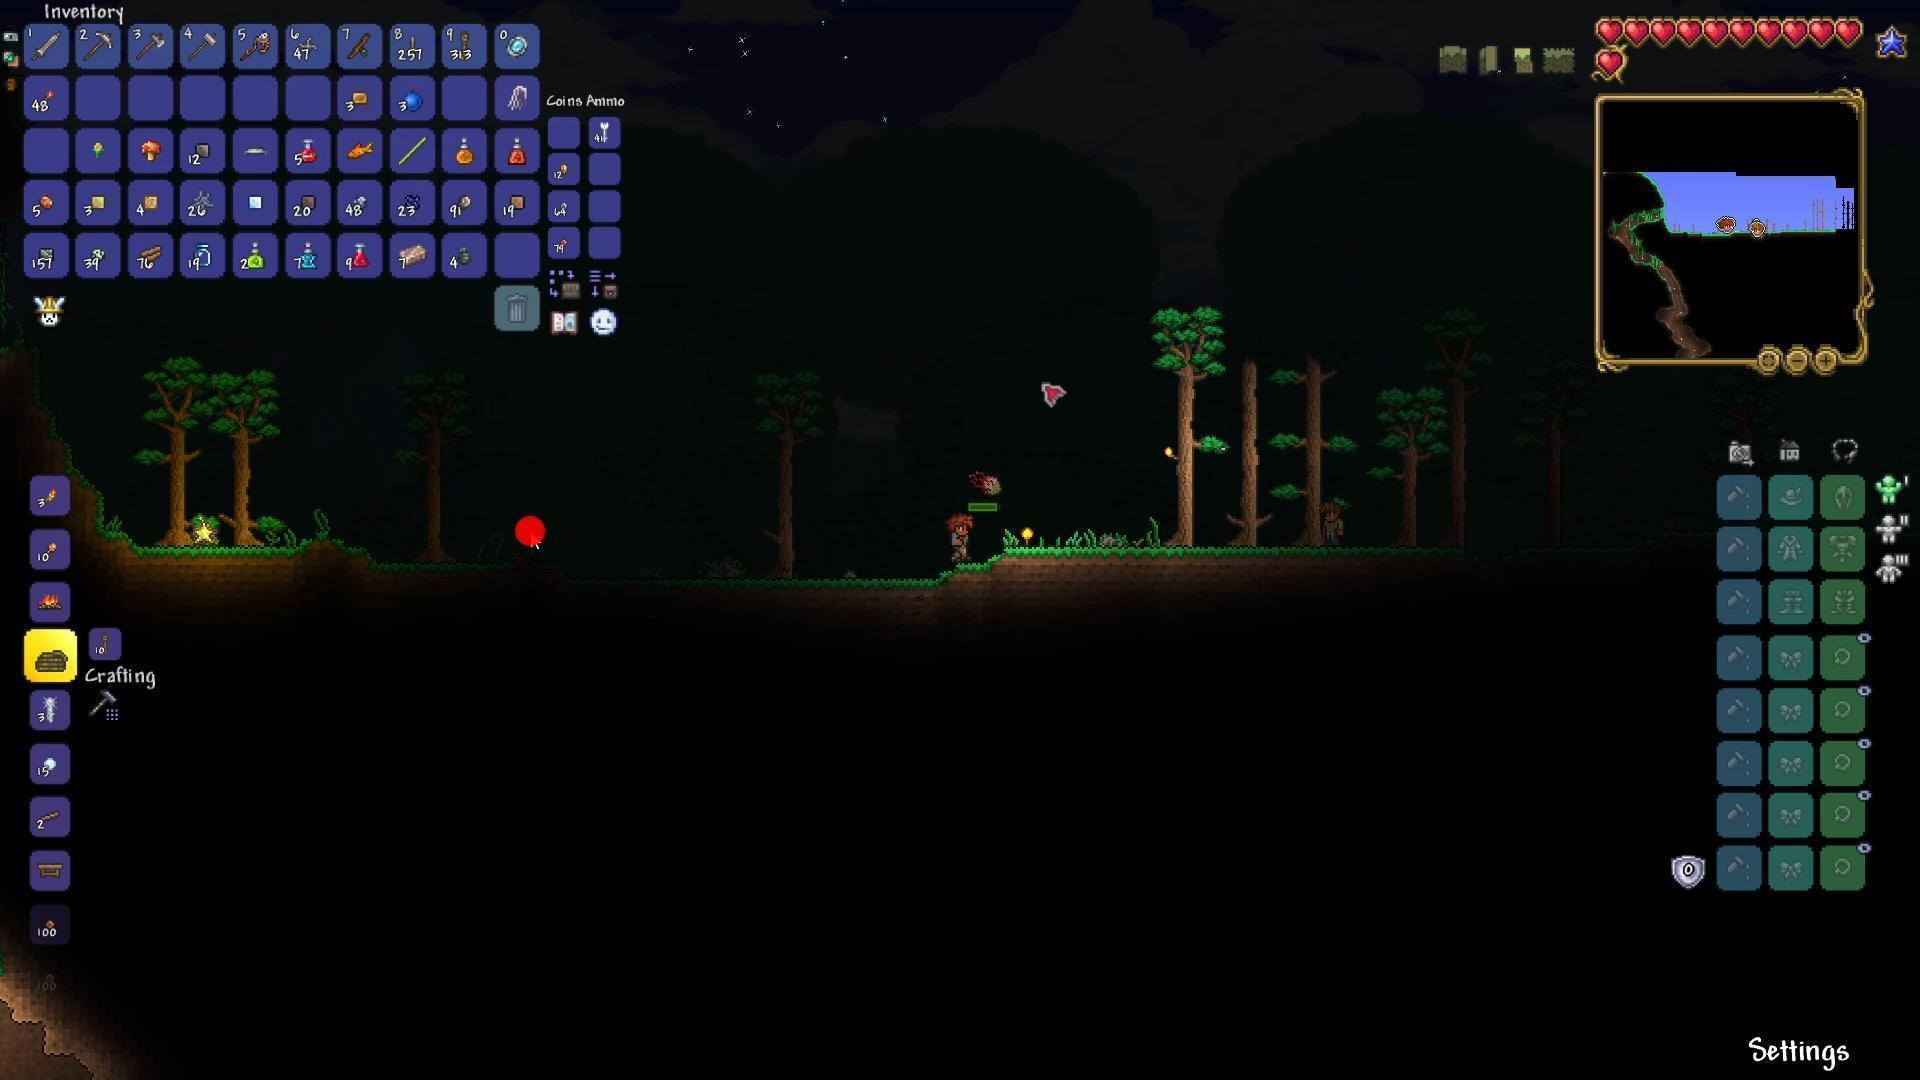bar: (385, 229, 442, 284)
cobwebI: (189, 186, 219, 218)
eye: (968, 469, 1005, 502)
grenade: (436, 225, 496, 286)
knife: (388, 17, 440, 74)
mirror: (487, 22, 554, 70)
ore: (438, 175, 493, 235), (20, 174, 78, 227), (335, 182, 386, 228)
potion: (284, 123, 336, 174), (340, 231, 386, 286)
recallP: (285, 225, 338, 277)
rope: (25, 684, 82, 732)
star: (191, 521, 215, 549)
wood: (136, 237, 169, 276)
workbench: (37, 855, 65, 885)
